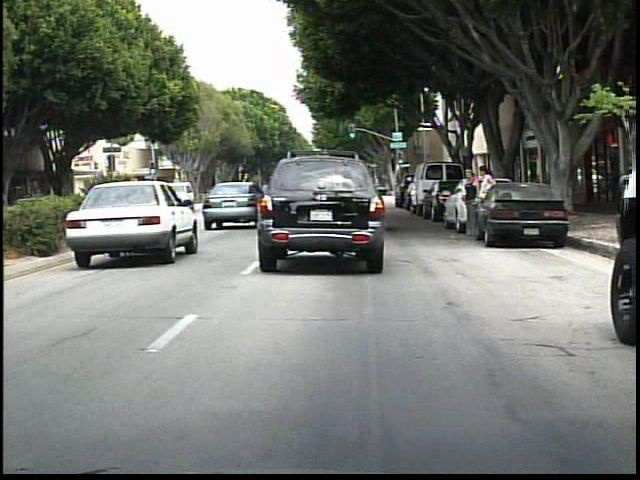person: (461, 168, 484, 240), (476, 163, 498, 236)
